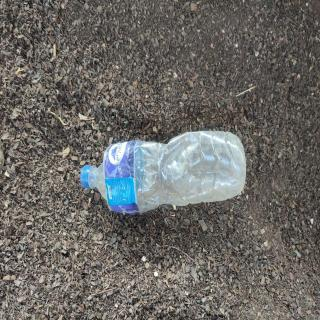Plastic-bottle: (80, 128, 250, 218)
